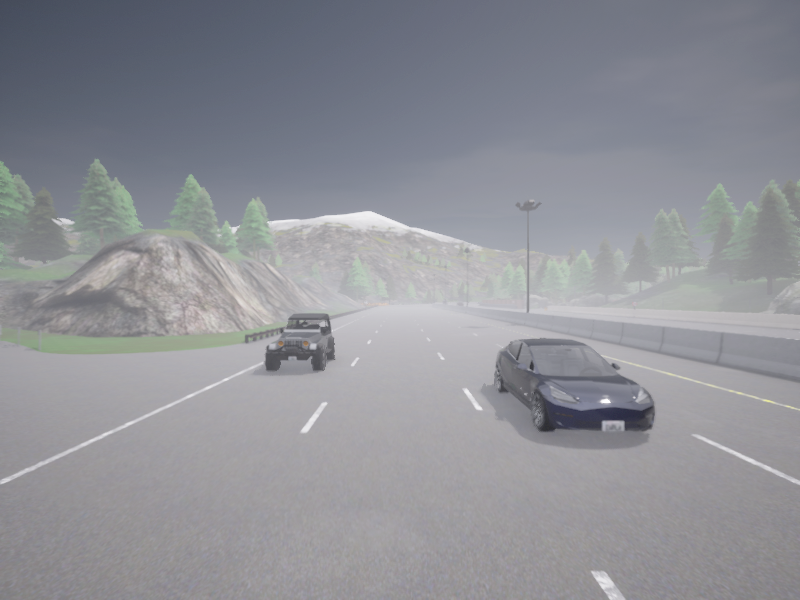vehicle: (495, 338, 654, 431), (265, 313, 335, 370), (457, 301, 462, 305), (443, 300, 447, 304)
